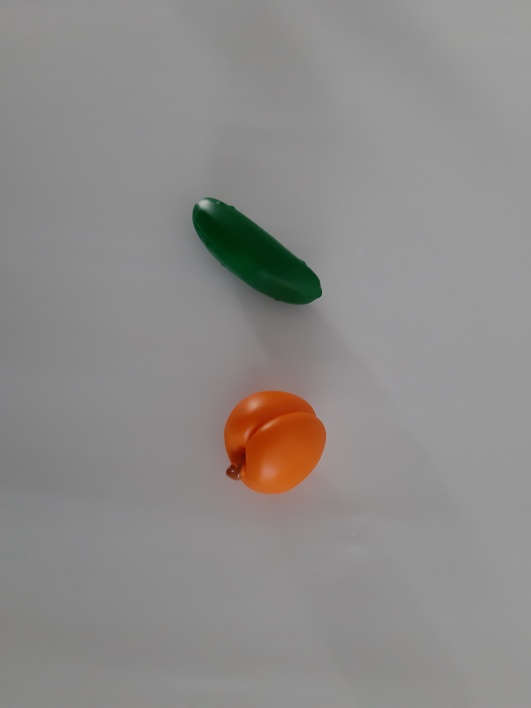apricot: (201, 377, 350, 513)
cucumber: (170, 172, 351, 338)
